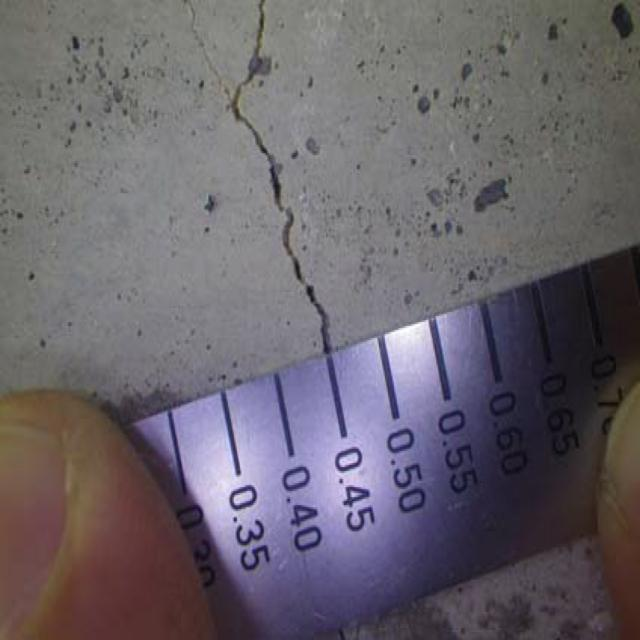crack: (214, 21, 353, 356)
